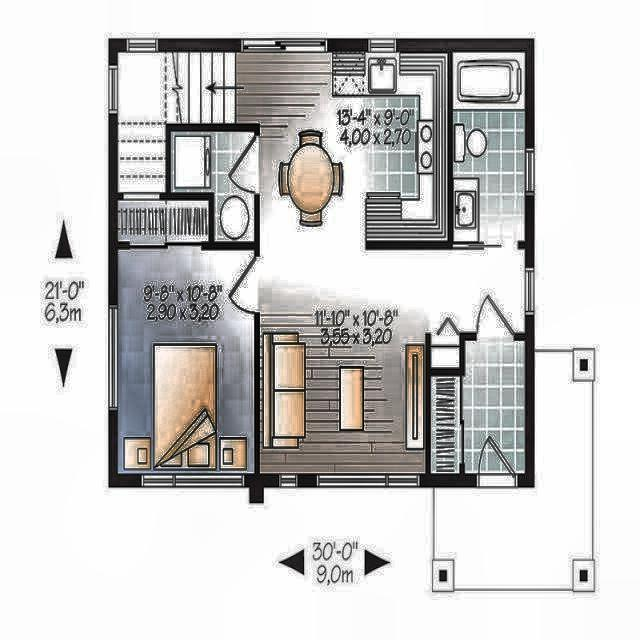room: (239, 51, 526, 474), (117, 249, 254, 474), (117, 53, 237, 192), (454, 52, 525, 241), (170, 133, 255, 242), (464, 342, 524, 471), (118, 201, 209, 241), (431, 376, 459, 472)
